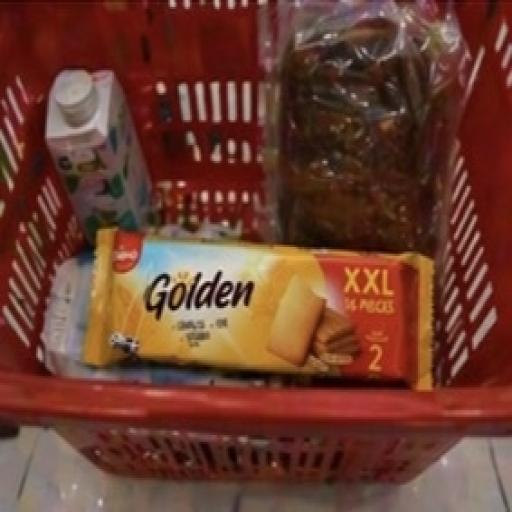golden: (59, 162, 455, 428)
